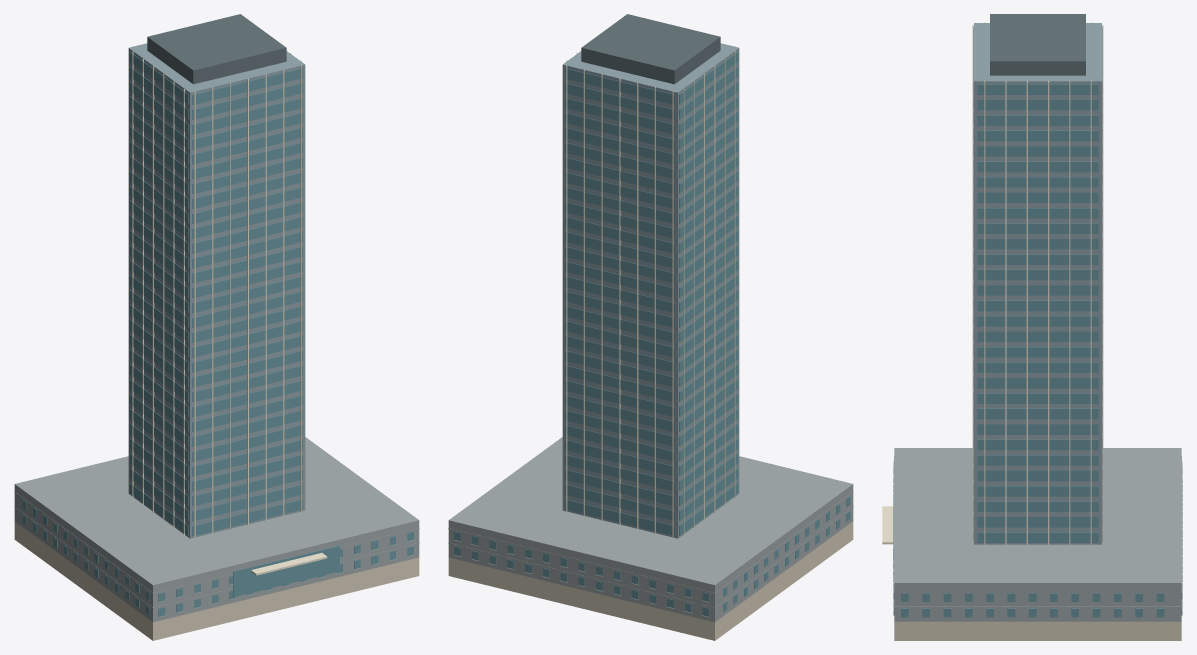
Rendered from civic-tower-2.glb.
The picture shows the model from 3 angles, left to right: view 1: azimuth 30°, elevation 25°; view 2: azimuth 150°, elevation 25°; view 3: azimuth 270°, elevation 25°; orthographic projection. The views are drawn at different scales.
Size of the model in its own units: 60.16 by 111 by 56.34.
